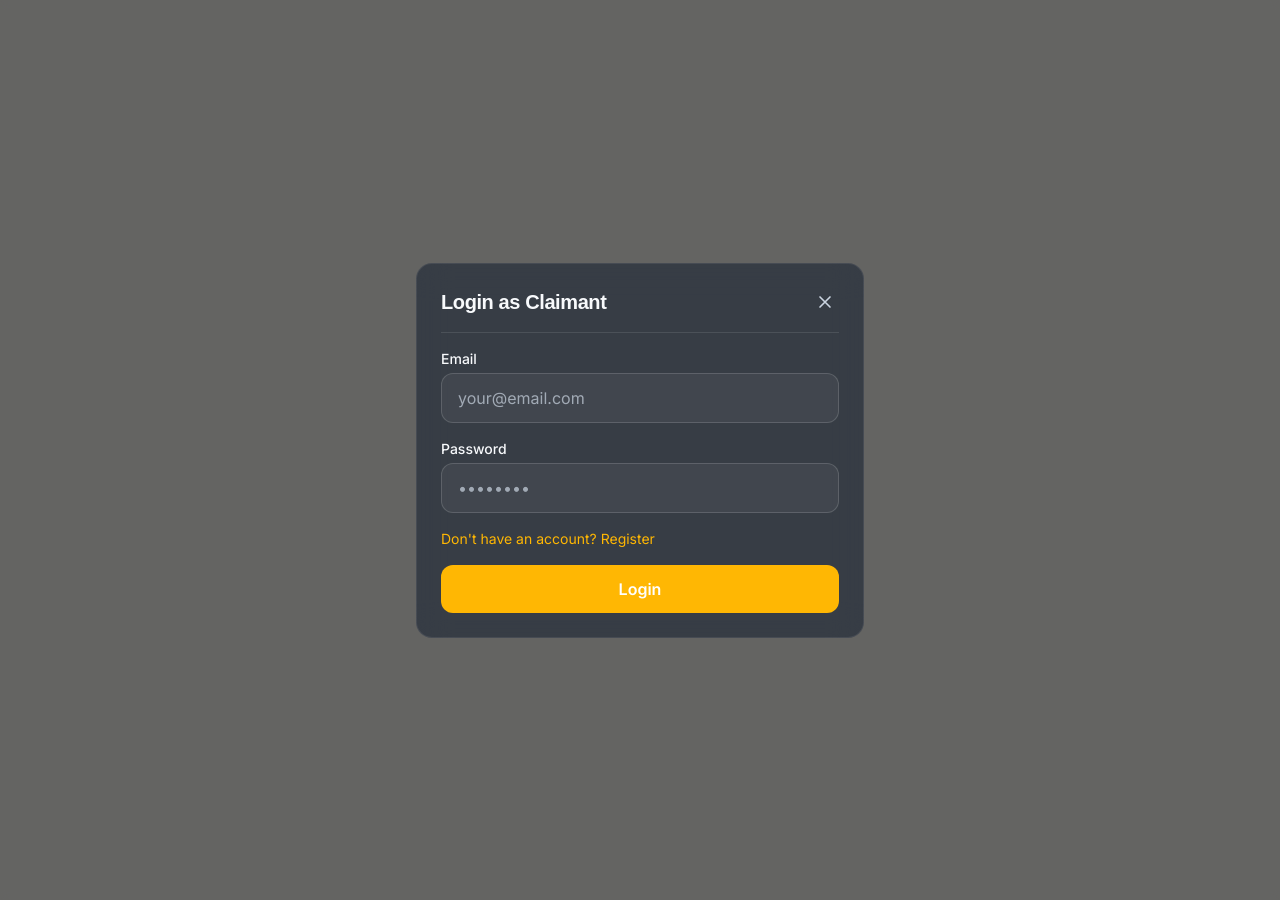
Test: AuthModal › should display error message on API failure
This screenshot has width=1280, height=900.
Type "test@example.com" into the field with placeholder "your@email.com" at (640, 398), box [441,372,839,422]
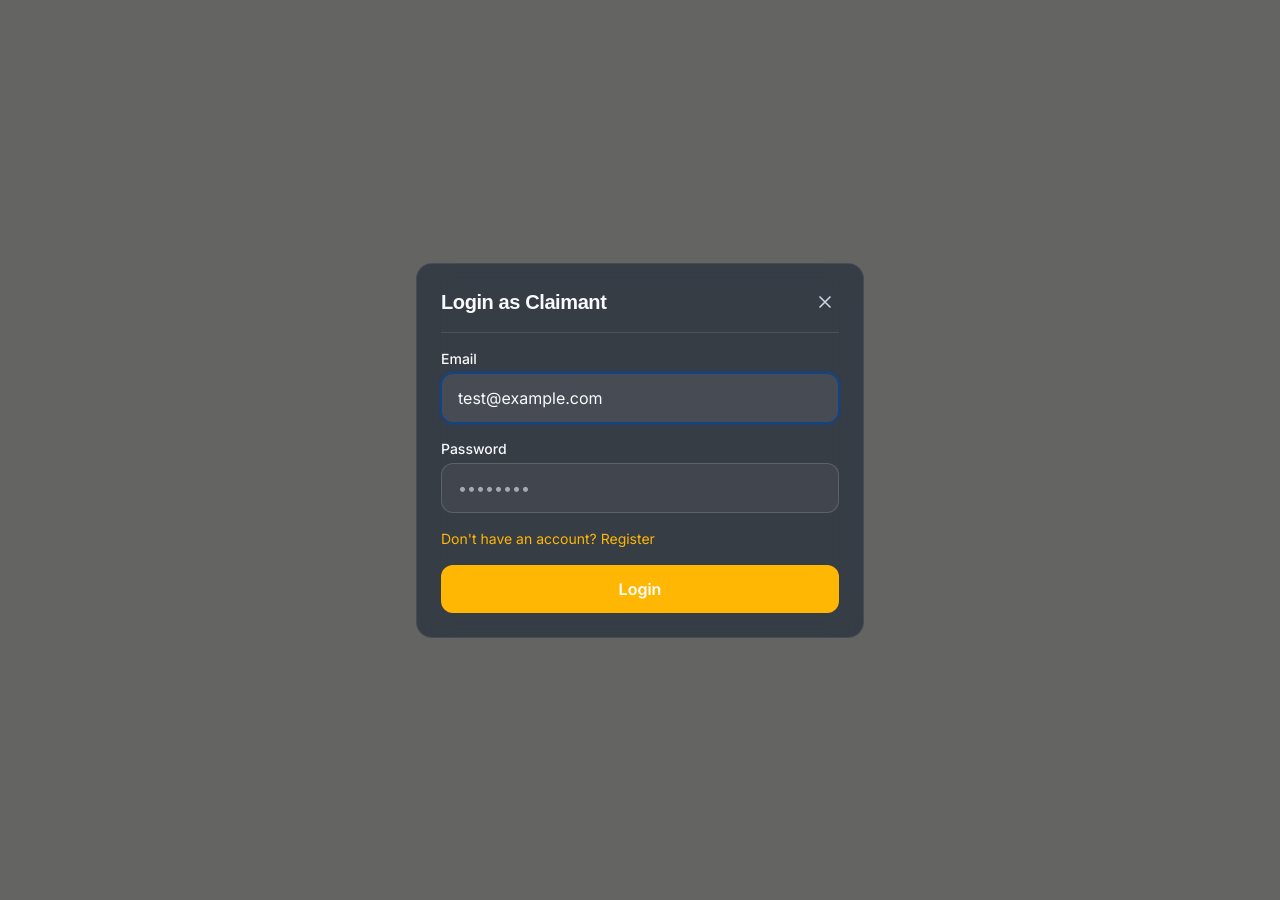
Type "wrongpassword" into the password field with placeholder "••••••••" at (640, 488), box [441,462,839,512]
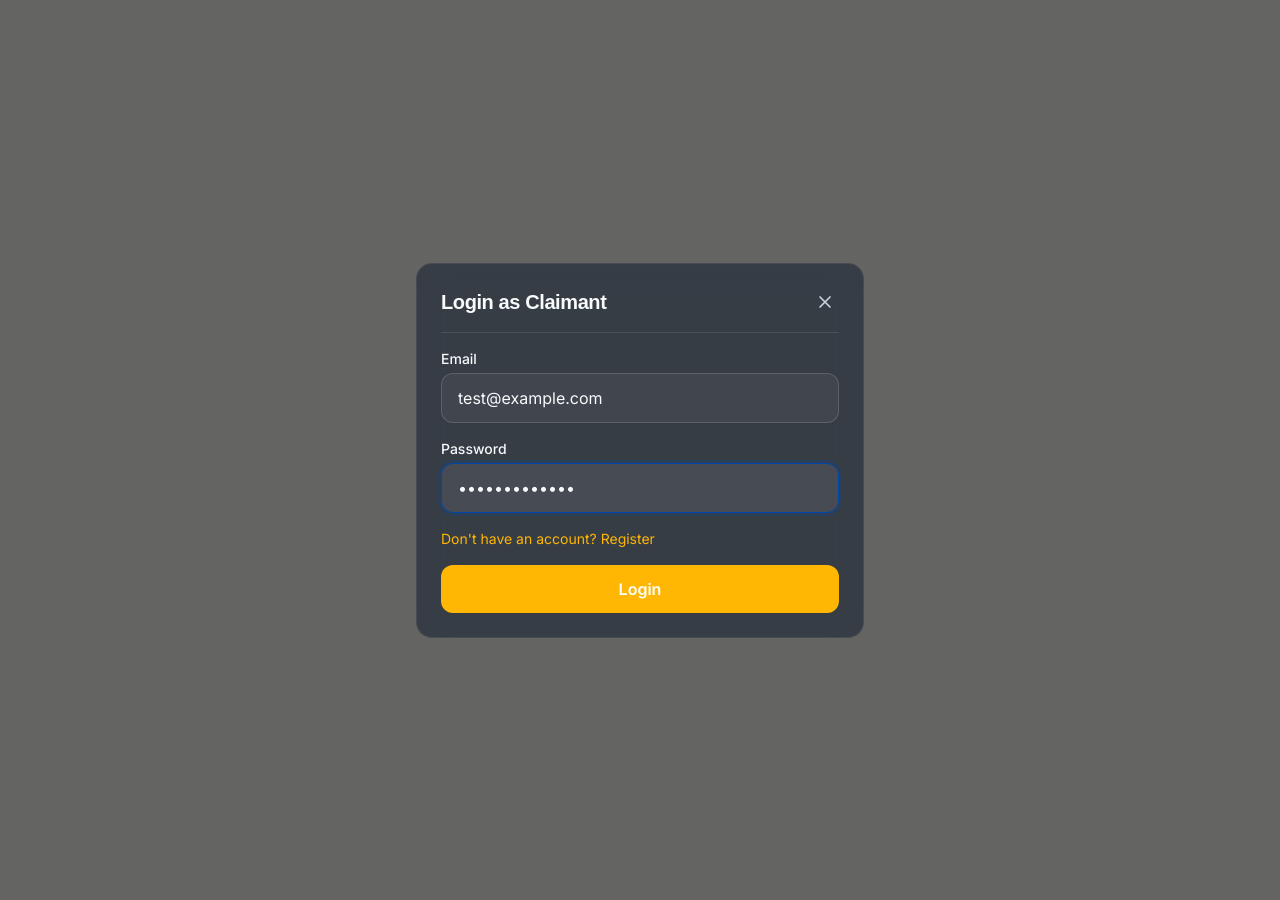
Click the button "Login" at (640, 588), box [441,564,839,612]
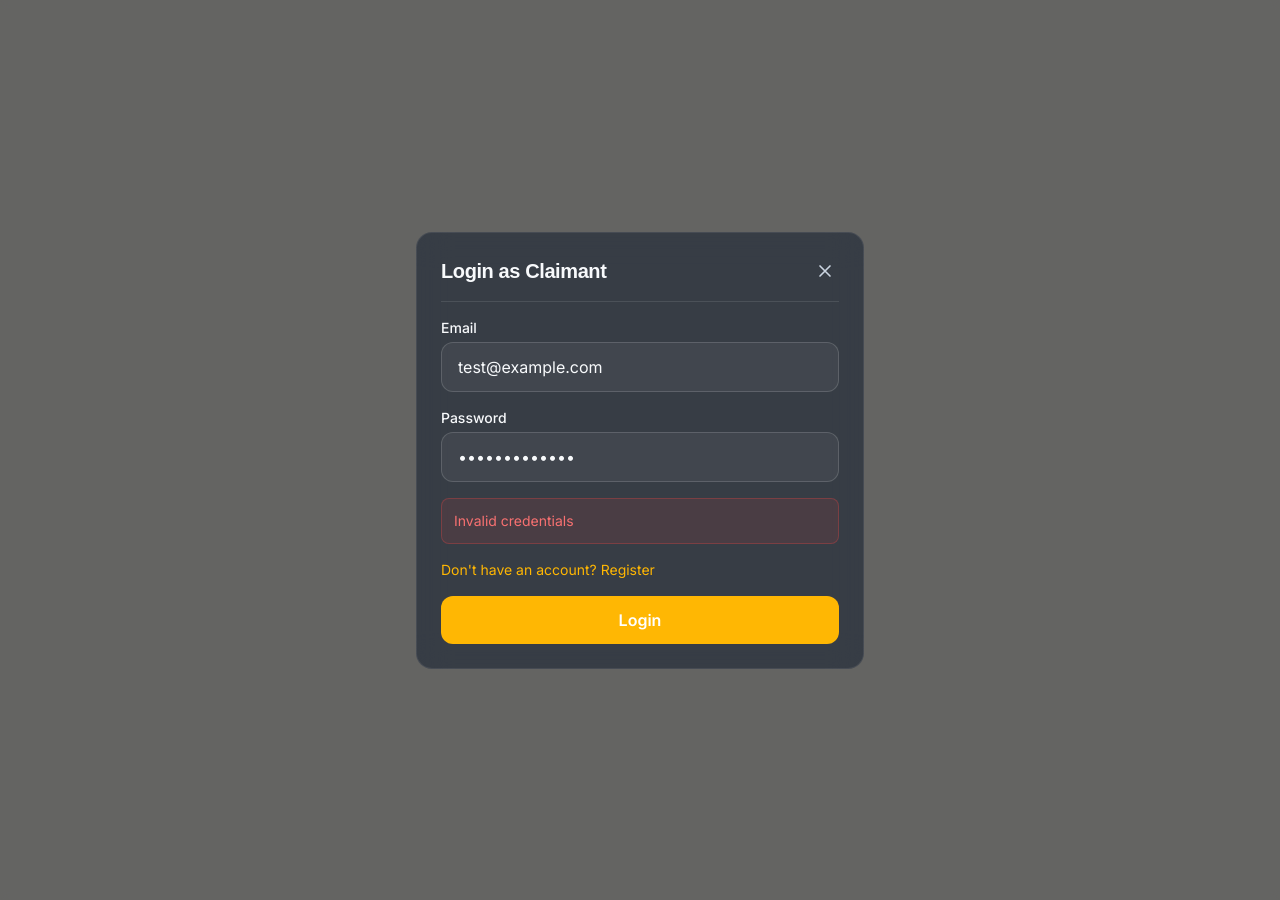
Now the text "Invalid credentials" is shown, box [454,512,574,528]
